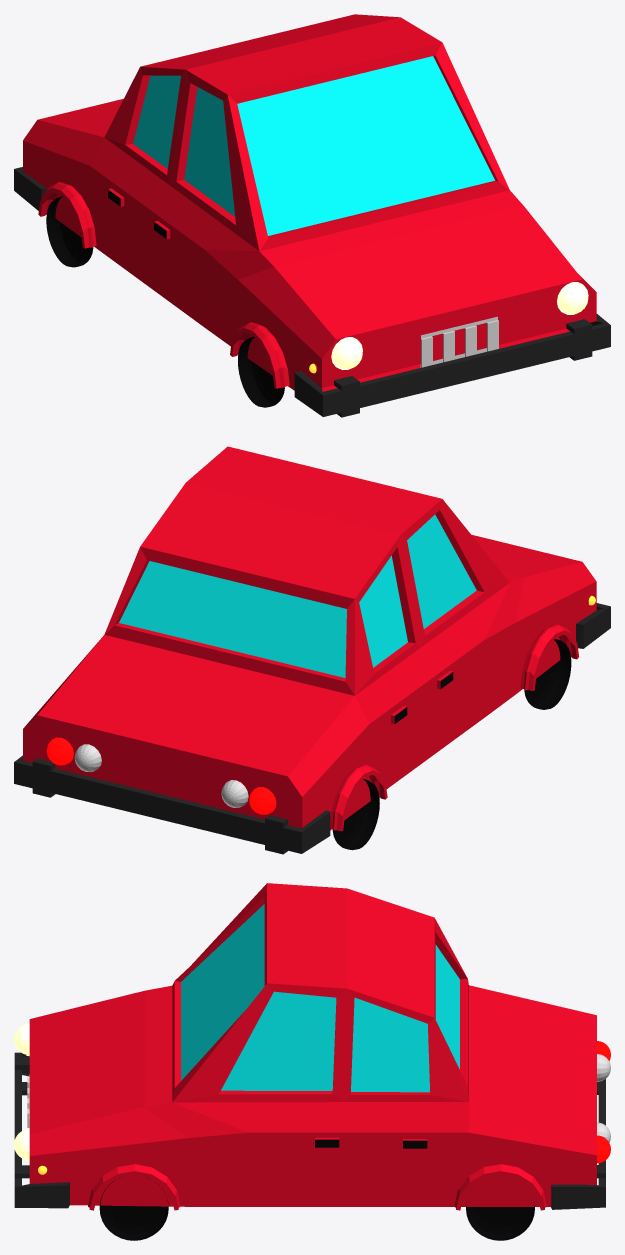
Rendered from car2.fbx.
3 renders of one model, top to bottom at view 1: azimuth 30°, elevation 25°; view 2: azimuth 150°, elevation 25°; view 3: azimuth 270°, elevation 25°, orthographic. The views are drawn at different scales.
Visible parts, largest first — view 1: Cube.001; view 2: Cube.001; view 3: Cube.001.
Boxes of the visible parts, x1,y1,x2,y2 form: Cube.001: (14,14,610,417); Cube.001: (14,446,610,854); Cube.001: (14,883,610,1240).
Size of the model in its own units: 629 by 487 by 1101.
